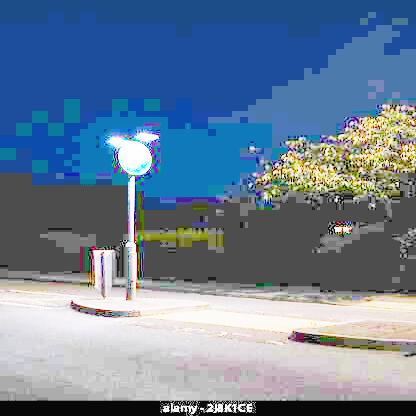Keep left: (112, 134, 163, 179)
